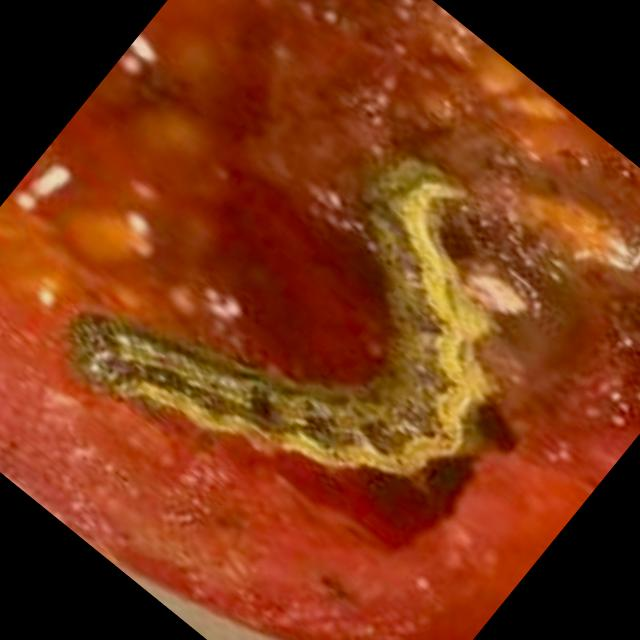Cotton bollworm: (25, 22, 632, 626)
